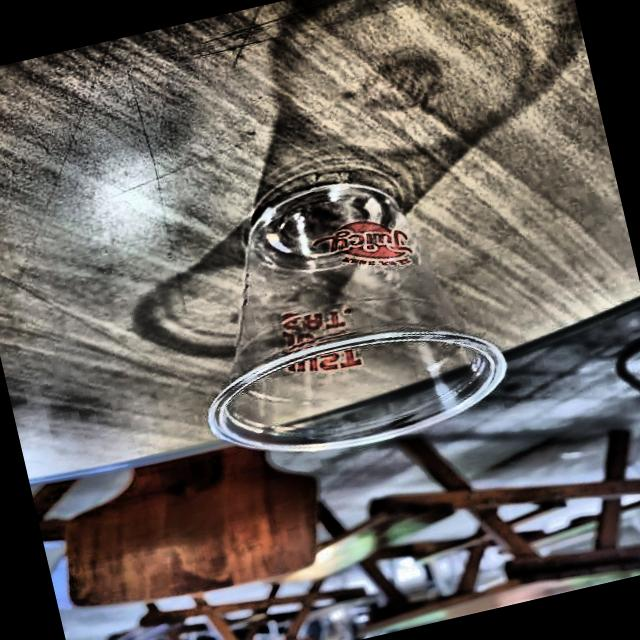plastic cup: (152, 139, 533, 488)
